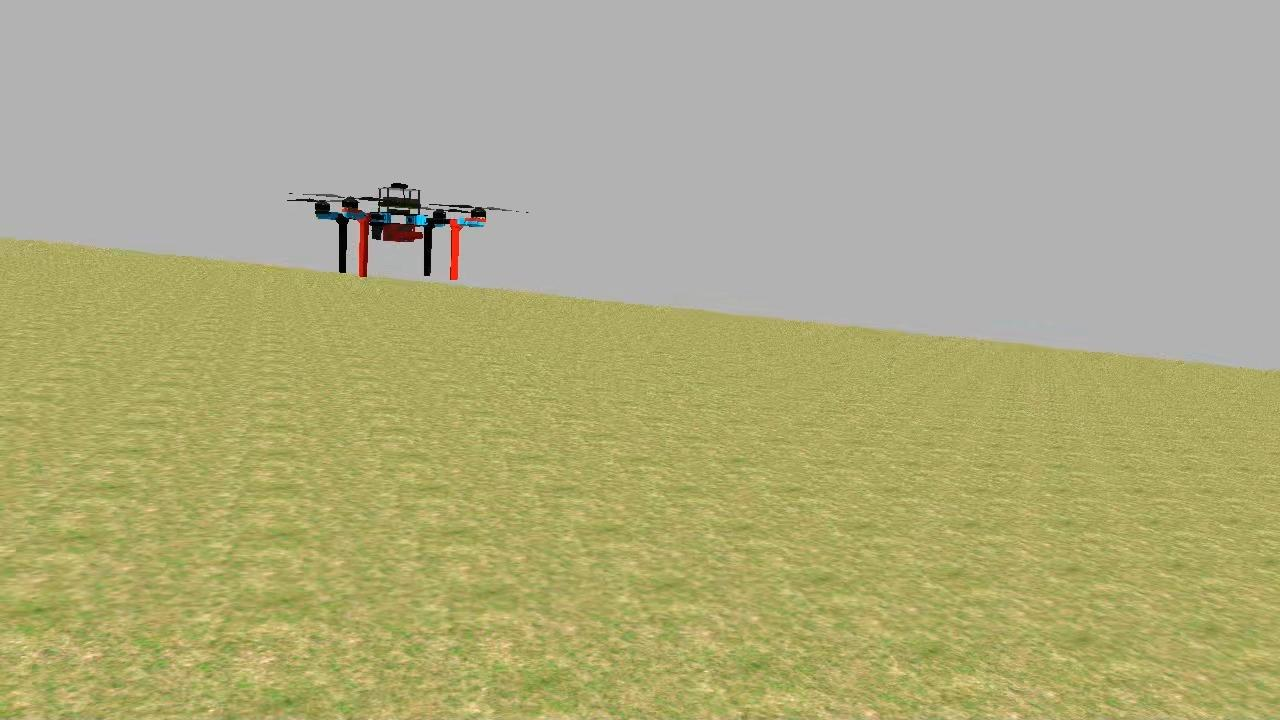UAV: (310, 174, 494, 282)
